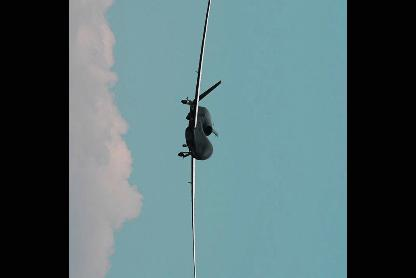P3: (178, 0, 222, 277)
